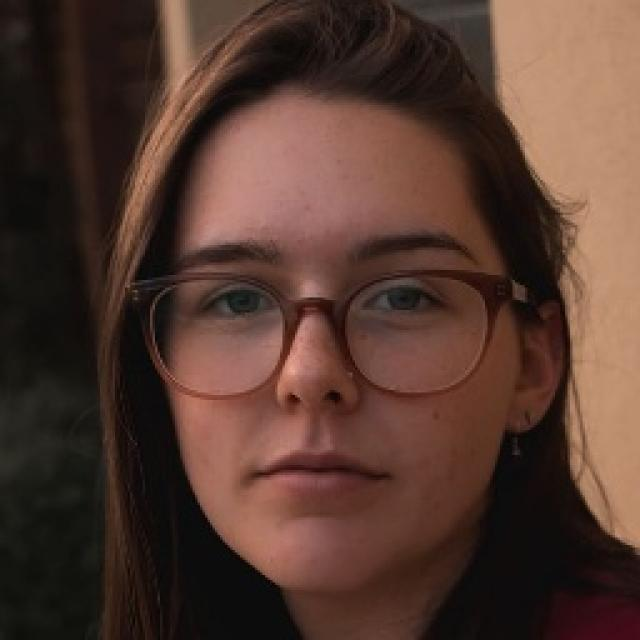glasses: (124, 260, 544, 403)
